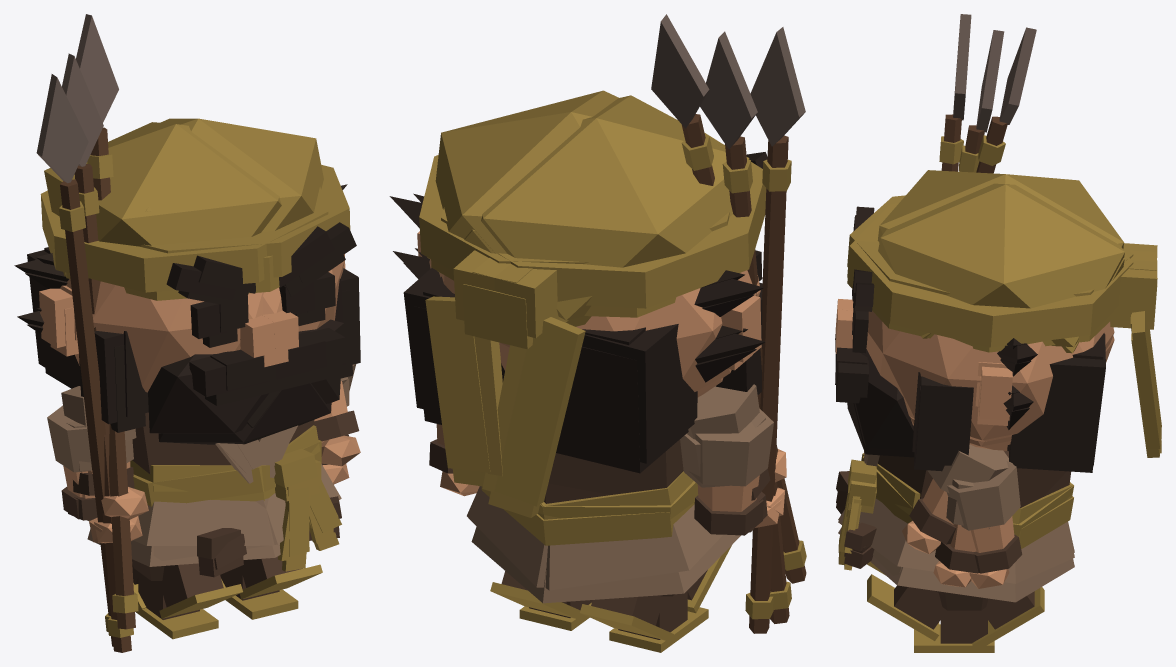
File: yellow_turban_chibi_poses.glb
3 views of the same model, side by side, from view 1: azimuth 30°, elevation 25°; view 2: azimuth 150°, elevation 25°; view 3: azimuth 270°, elevation 25° (orthographic). The views are drawn at different scales.
Parts seen in each view (by area): view 1: pose_1, pose_3, pose_0; view 2: pose_1, pose_3, pose_0; view 3: pose_3, pose_1, pose_0.
Boxes of the visible parts, x1,y1,x2,y2 form: pose_1: [14, 74, 360, 646]; pose_3: [35, 14, 360, 629]; pose_0: [25, 53, 352, 652]; pose_1: [413, 27, 805, 642]; pose_3: [389, 14, 806, 621]; pose_0: [401, 31, 791, 652]; pose_3: [835, 27, 1161, 650]; pose_1: [835, 14, 1161, 640]; pose_0: [835, 30, 1161, 652].
Size of the model in its own units: 1.1 by 1.83 by 0.9709.
